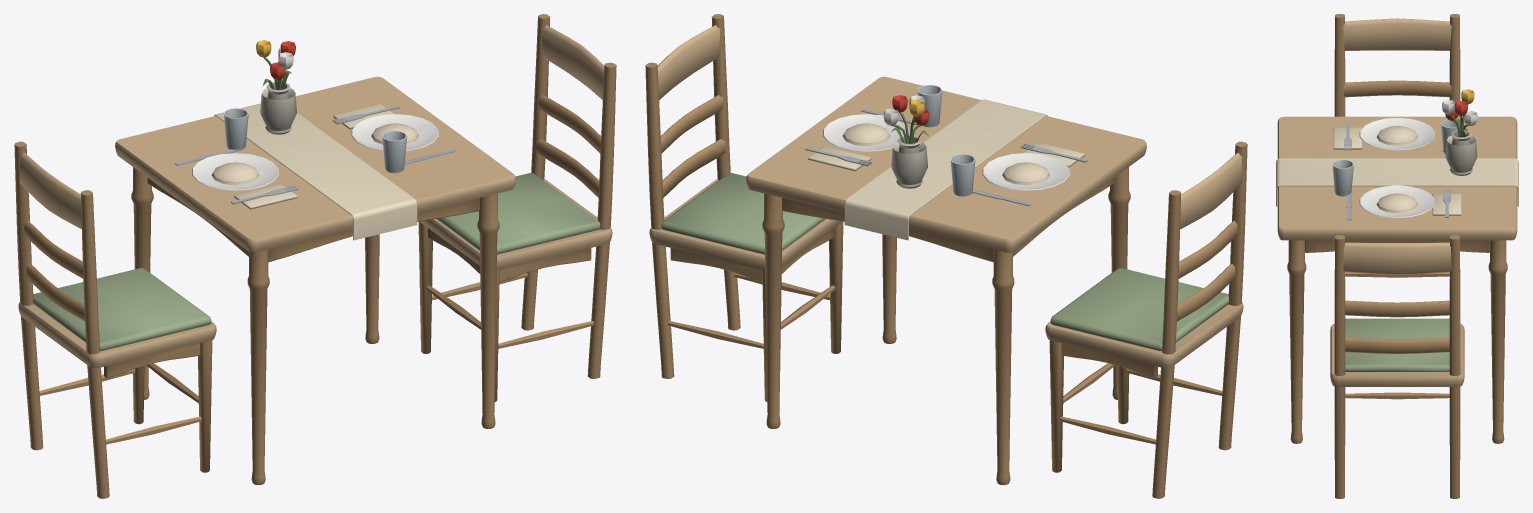
File: diningTable.glb
3 views of the same model, side by side, from view 1: azimuth 30°, elevation 25°; view 2: azimuth 150°, elevation 25°; view 3: azimuth 270°, elevation 25° (orthographic). The views are drawn at different scales.
Visible parts, largest first — view 1: diningTable; view 2: diningTable; view 3: diningTable.
Boxes of the visible parts, x1,y1,x2,y2 form: diningTable: (14, 14, 616, 498); diningTable: (645, 14, 1247, 498); diningTable: (1276, 14, 1518, 498).
Bounding box in the file's own units: 1.69 × 1.02 × 0.76.
